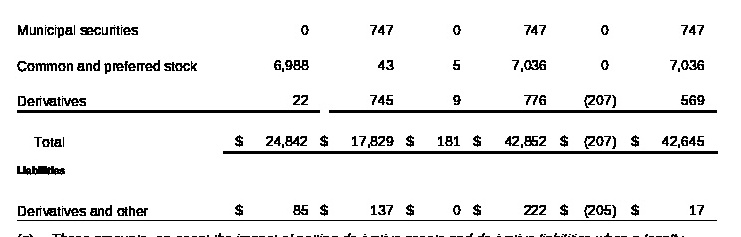table: (0, 0, 741, 237)
